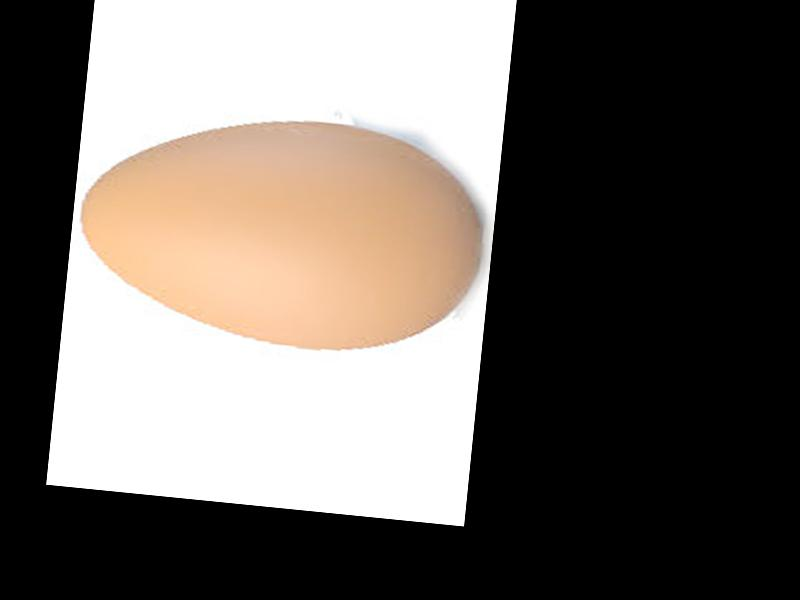Eggs: (72, 100, 492, 365)
